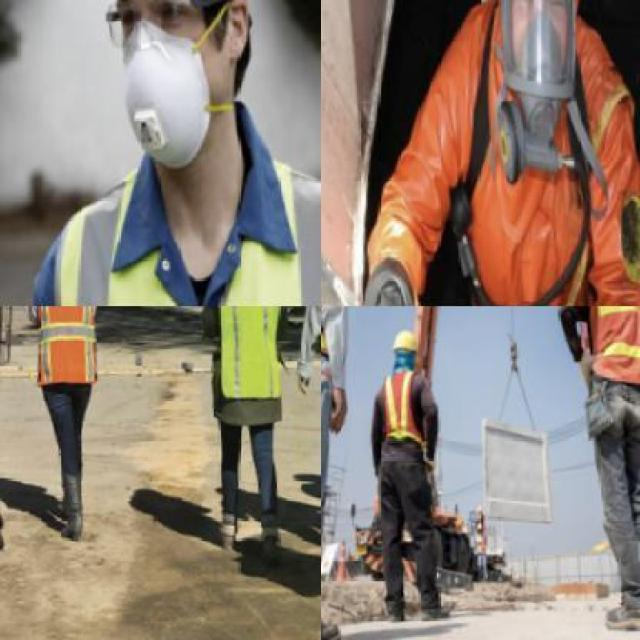Vest: (394, 0, 638, 305), (34, 123, 318, 305), (208, 306, 298, 400), (23, 306, 117, 391), (572, 306, 638, 396), (378, 360, 436, 455)
